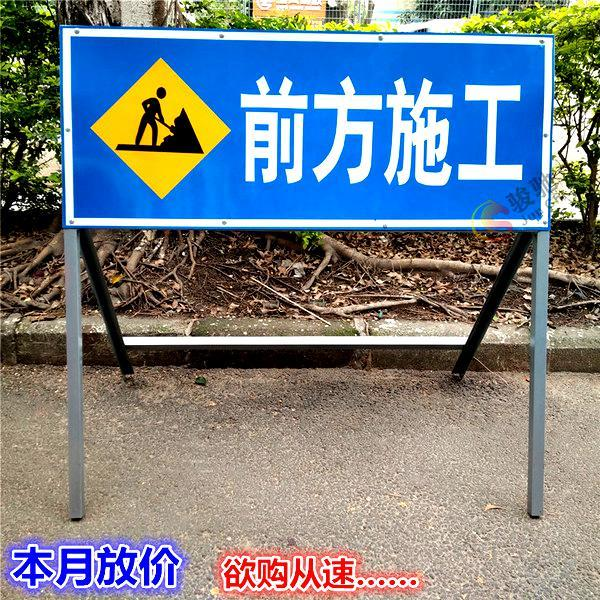sign: (59, 25, 551, 230)
